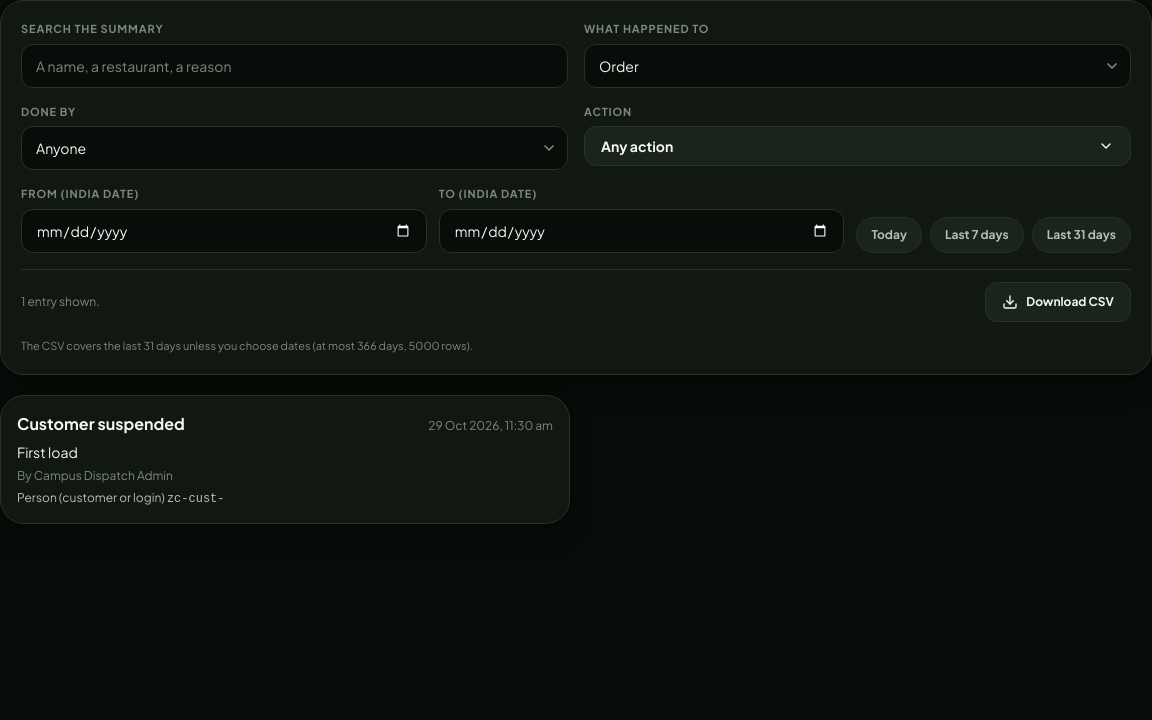
Test: filters › a slow answer for old filters never replaces the list of the new filters
The width and height of the screenshot is (1152, 720).
Select "Order" in the dropdown with id "au-type" at (858, 66), box [584,44,1131,88]
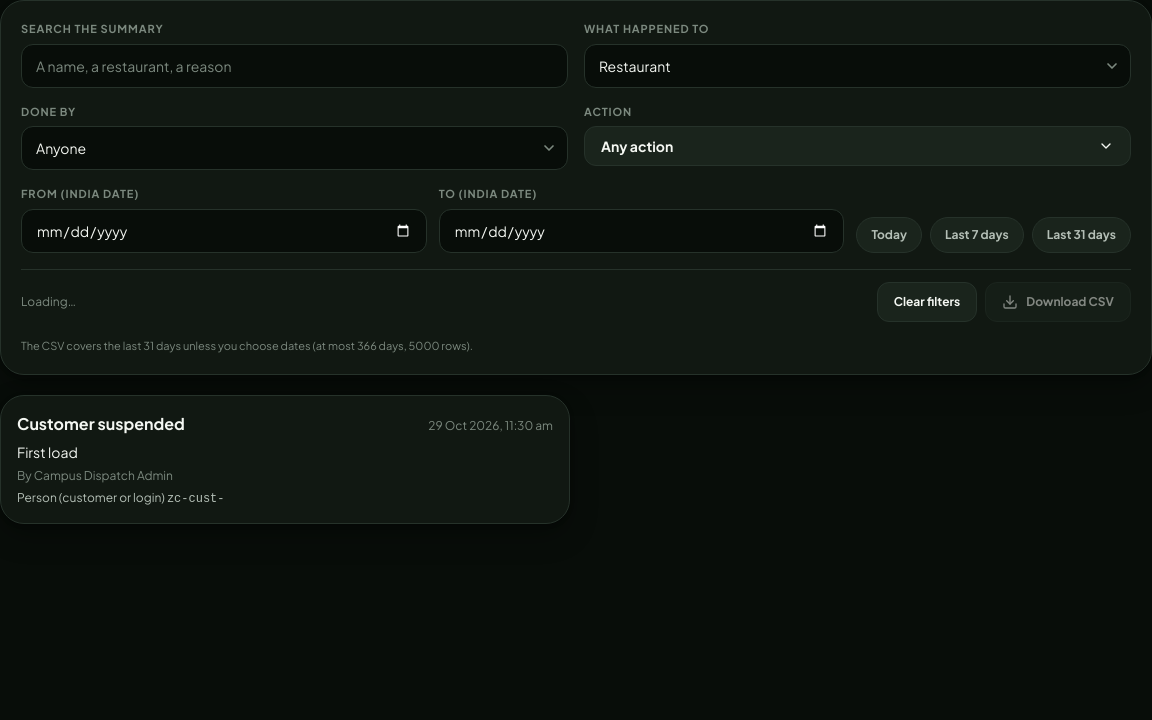
Select "Restaurant" in the dropdown with id "au-type" at (858, 66), box [584,44,1131,88]
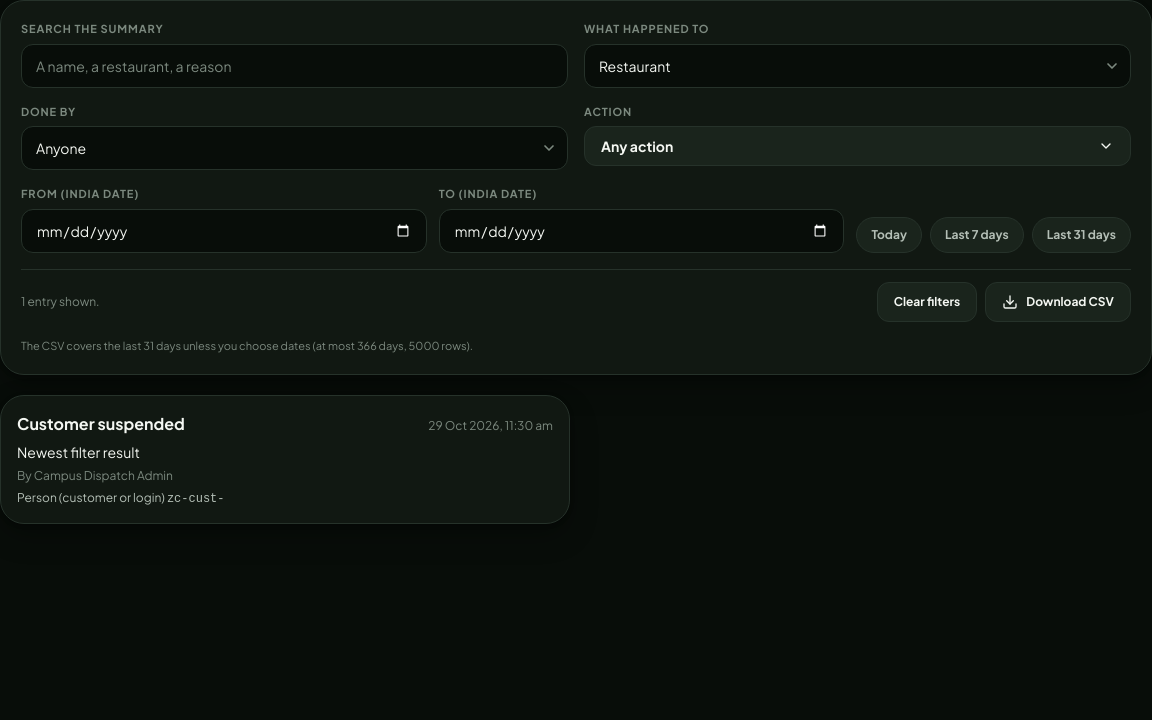
Expected: the text "Newest filter result" is shown, [17,443,140,461]
